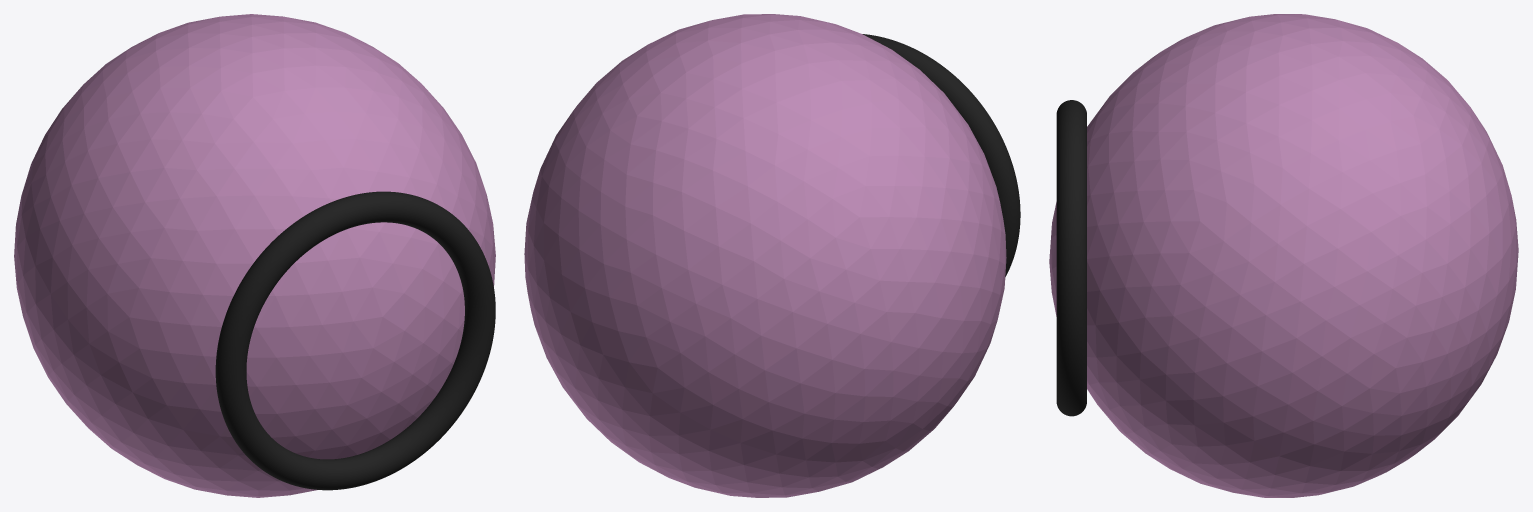
Rendered from FINAL012_with_Ring_m.glb.
3 renders of one model, left to right at view 1: azimuth 30°, elevation 25°; view 2: azimuth 150°, elevation 25°; view 3: azimuth 270°, elevation 25°, orthographic.
Parts seen in each view (by area): view 1: Polyp_FINAL012, Ring_CAD; view 2: Polyp_FINAL012, Ring_CAD; view 3: Polyp_FINAL012, Ring_CAD.
Part boxes in pixels (x1,y1,x2,y2): Polyp_FINAL012: (14, 14, 495, 497); Ring_CAD: (215, 191, 495, 490); Polyp_FINAL012: (524, 14, 1006, 497); Ring_CAD: (862, 34, 1020, 276); Polyp_FINAL012: (1049, 14, 1518, 497); Ring_CAD: (1056, 100, 1086, 416).
Size of the model in its own units: 0.0187 by 0.0189 by 0.0184.
